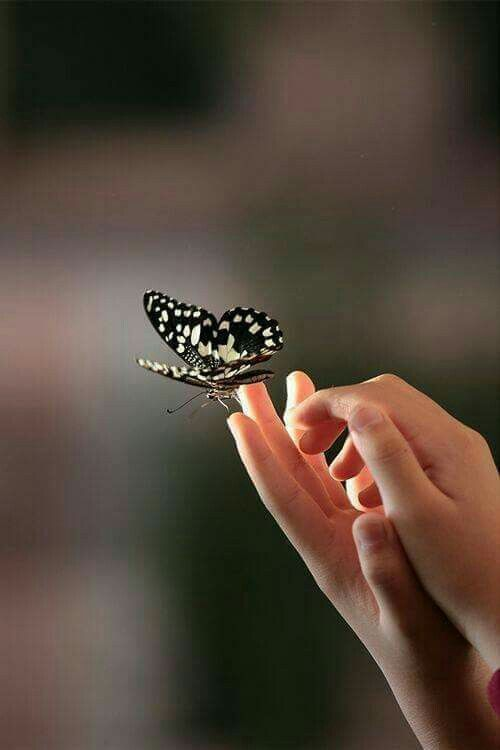Butterfly: (134, 285, 288, 415)
